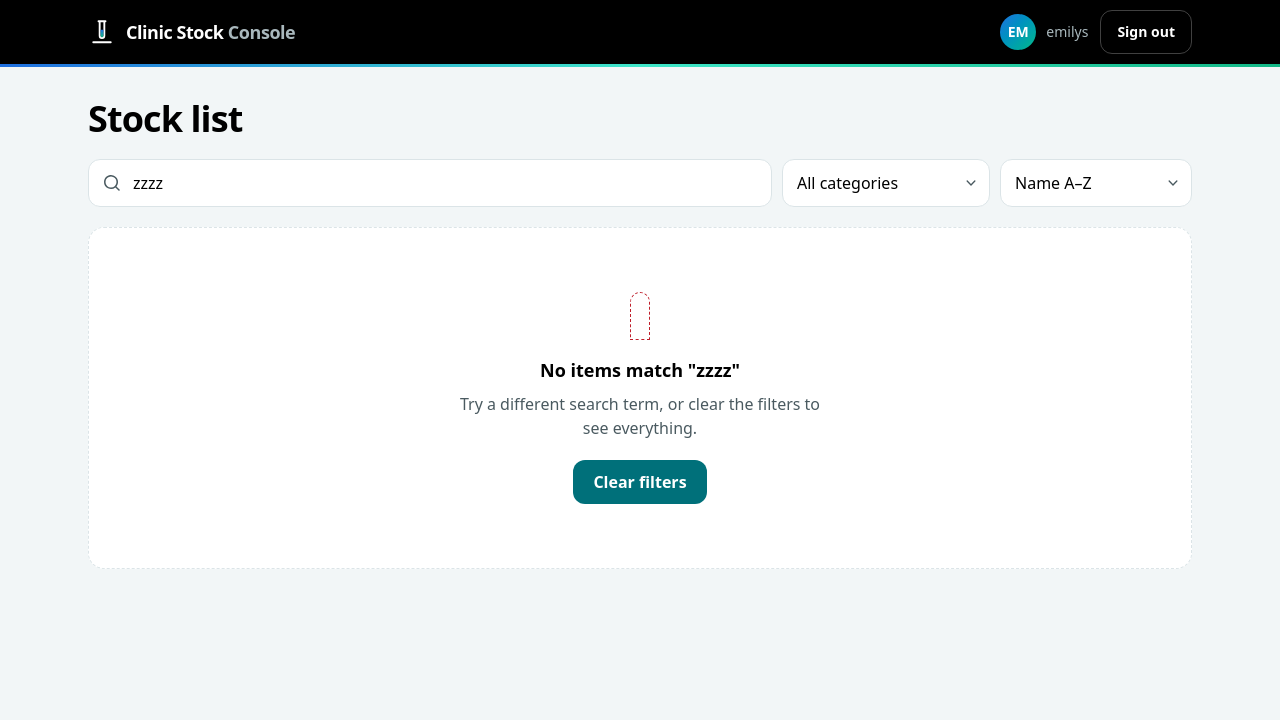
Scenario: 4. Loading, empty and error states, with recovery from /http/500 › stock list: an empty result offers a way back
Expected: the text "No items match \"zzzz\"" is shown, 540,356 -> 740,384
Step 1. Click the button "Clear filters" → (640, 482), box 573,460 -> 707,504
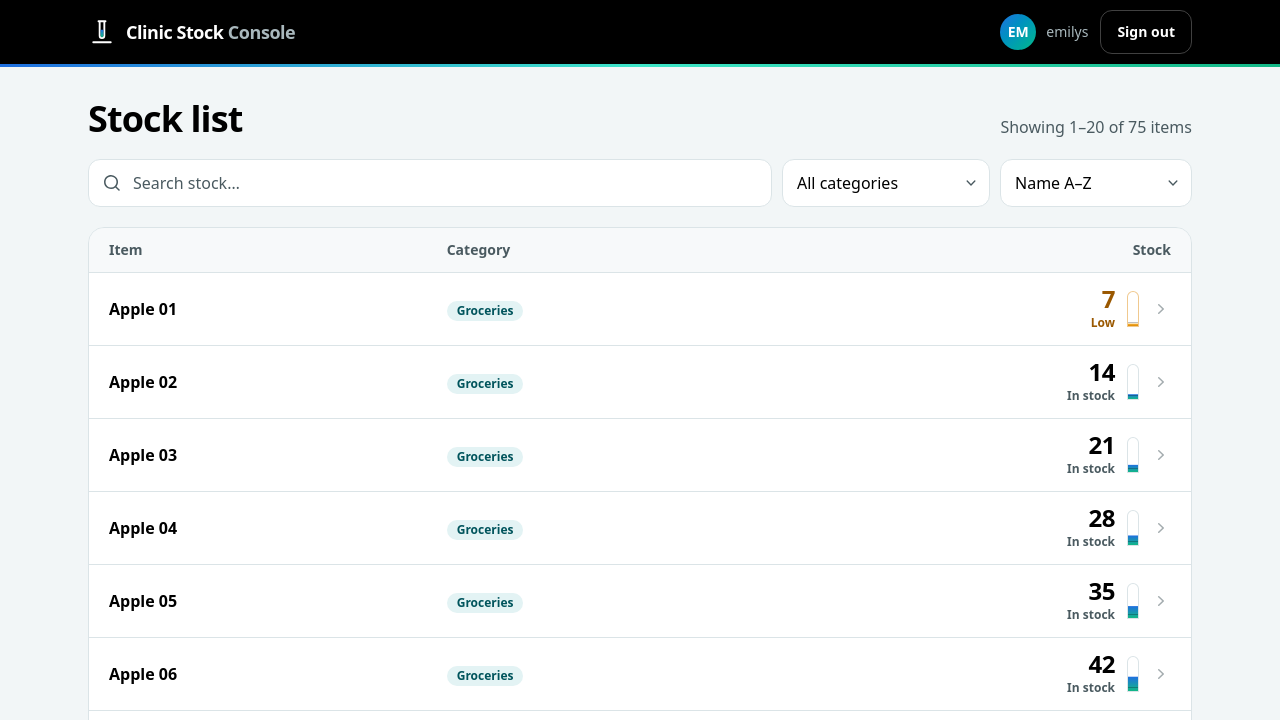
Expected: the text "Showing 1–20 of 75 items" is shown, 1000,115 -> 1192,139
